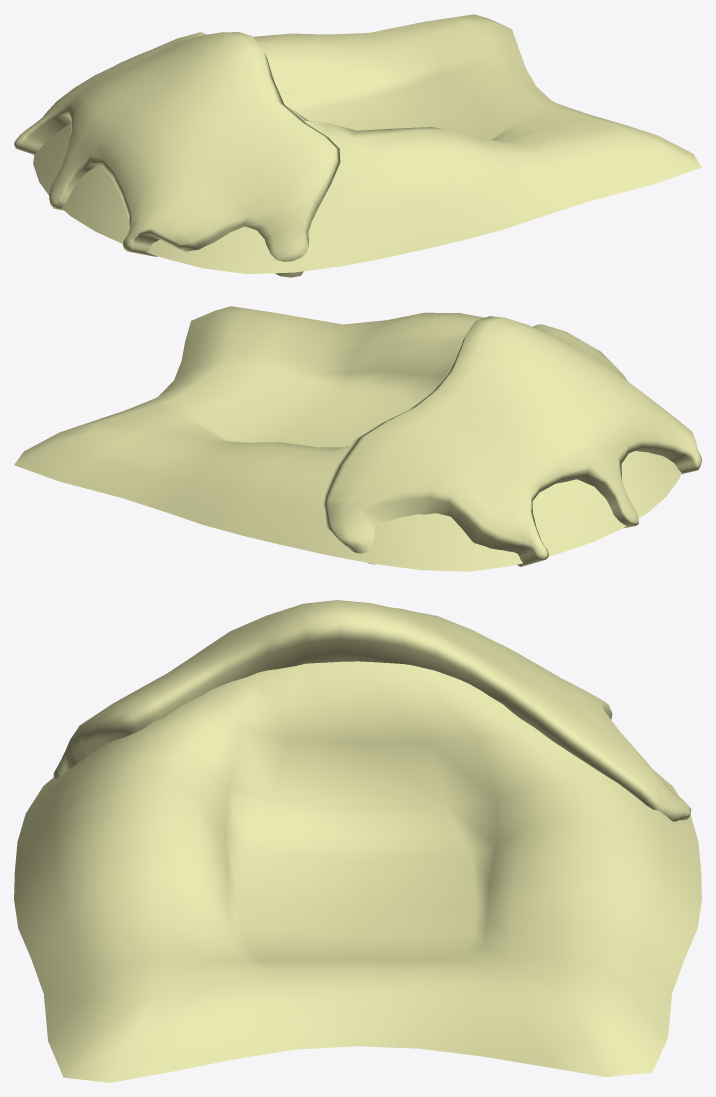
The model's file is StairDown.fbx.
The picture shows the model from 3 angles, top to bottom: view 1: azimuth 30°, elevation 25°; view 2: azimuth 150°, elevation 25°; view 3: azimuth 270°, elevation 25°; orthographic projection. The views are drawn at different scales.
Visible parts, largest first — view 1: StairDown, HoneyStairDown; view 2: StairDown, HoneyStairDown; view 3: StairDown, HoneyStairDown.
Part boxes in pixels (box(x1,y1,x2,y2)): StairDown: box(33, 14, 701, 274); HoneyStairDown: box(14, 32, 340, 277); StairDown: box(14, 306, 681, 571); HoneyStairDown: box(322, 316, 701, 566); StairDown: box(14, 661, 701, 1082); HoneyStairDown: box(53, 600, 691, 821).
Bounding box in the file's own units: 1.72 × 0.4843 × 1.32.
